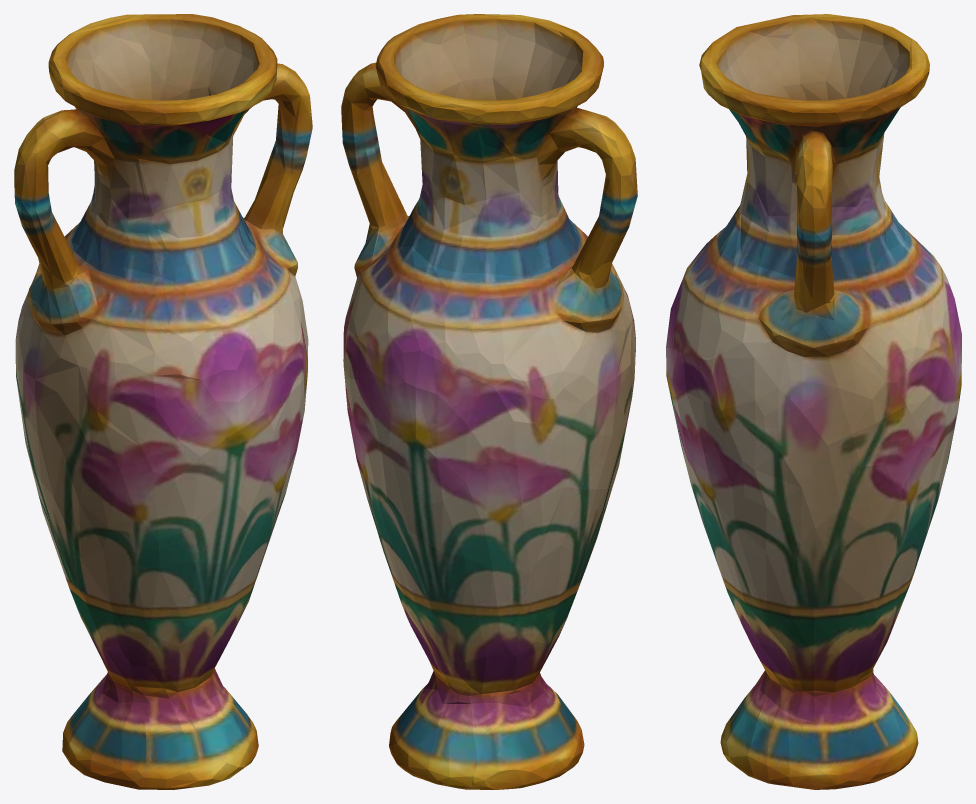
The model's file is prop_vase.glb.
3 renders of one model, left to right at view 1: azimuth 30°, elevation 25°; view 2: azimuth 150°, elevation 25°; view 3: azimuth 270°, elevation 25°, orthographic.
Parts seen in each view (by area): view 1: geometry_0; view 2: geometry_0; view 3: geometry_0.
Part boxes in pixels (box(x1,y1,x2,y2)): geometry_0: box(14, 14, 312, 789); geometry_0: box(341, 14, 637, 789); geometry_0: box(666, 14, 961, 789).
Bounding box in the file's own units: 0.443 × 0.9996 × 0.3881.
Materials: 1 (1 with a texture image).
